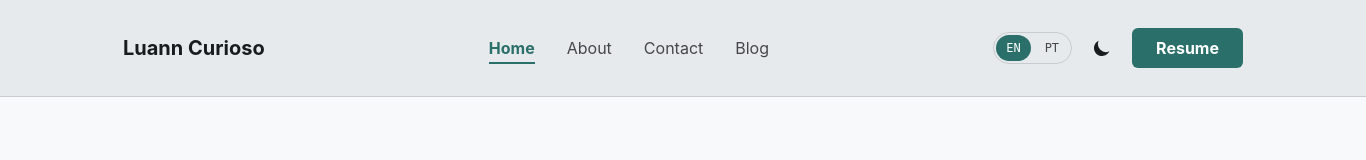
Test: renders the language switcher and switches the active locale
Expected: the element named "Language" is shown, x1=993 y1=32 x2=1072 y2=64
Click the button "PT".
click(1052, 48)  # box x1=1035 y1=35 x2=1069 y2=61
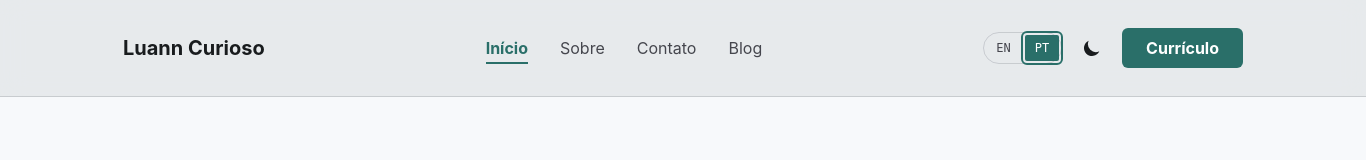
Now the link "Início" is shown, box x1=486 y1=38 x2=528 y2=64
